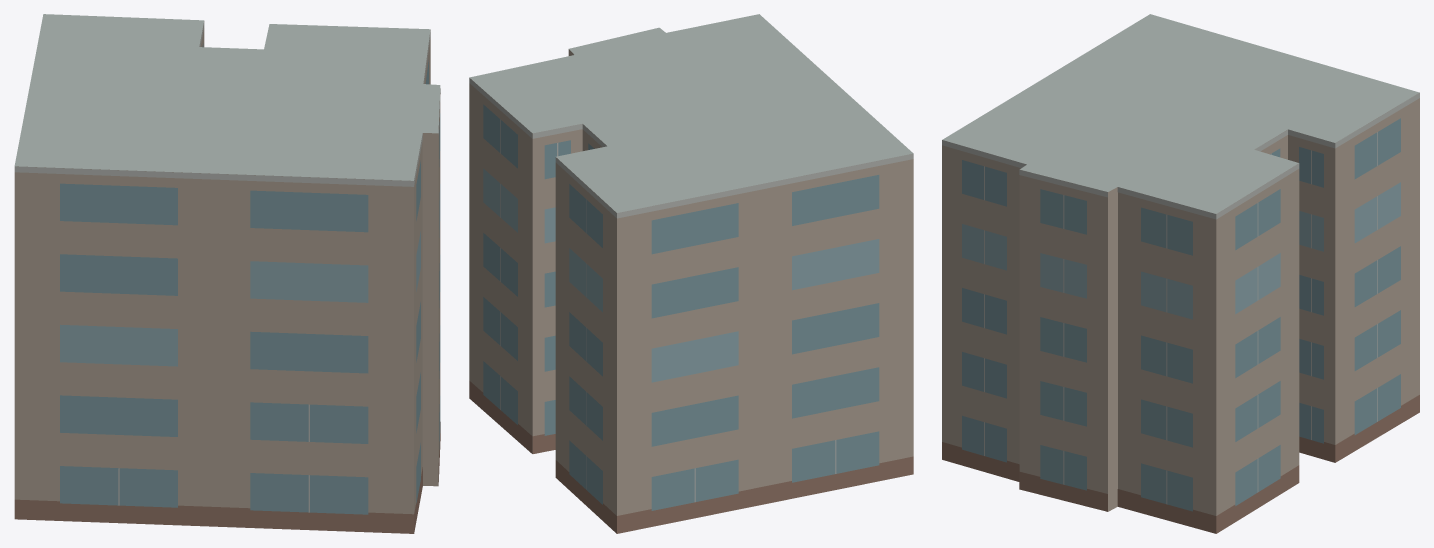
The model's file is survey-upis-33047140.glb.
3 renders of one model, left to right at view 1: azimuth 30°, elevation 25°; view 2: azimuth 150°, elevation 25°; view 3: azimuth 270°, elevation 25°, orthographic. The views are drawn at different scales.
Visible parts, largest first — view 1: survey-upis-33047140.tmp; view 2: survey-upis-33047140.tmp; view 3: survey-upis-33047140.tmp.
Boxes of the visible parts, x1,y1,x2,y2 form: survey-upis-33047140.tmp: [14, 14, 440, 533]; survey-upis-33047140.tmp: [469, 14, 913, 533]; survey-upis-33047140.tmp: [942, 14, 1419, 533].
Bounding box in the file's own units: 19.26 × 14.35 × 19.44.
